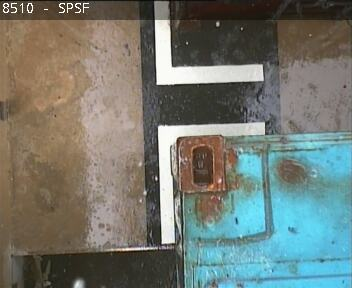groundmarker_1: (152, 1, 267, 242)
